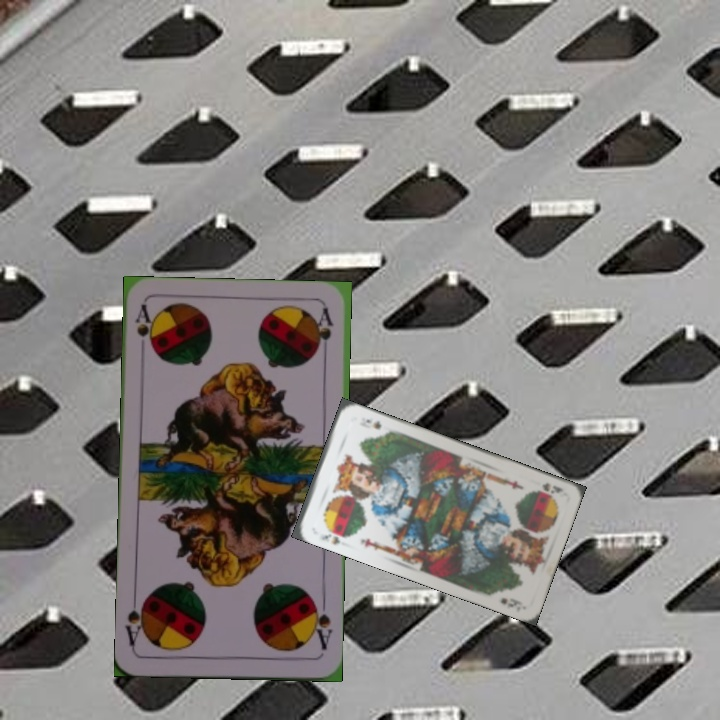SA: (308, 596, 335, 652), (130, 301, 157, 355)
SK: (317, 523, 350, 547), (534, 479, 566, 499)
